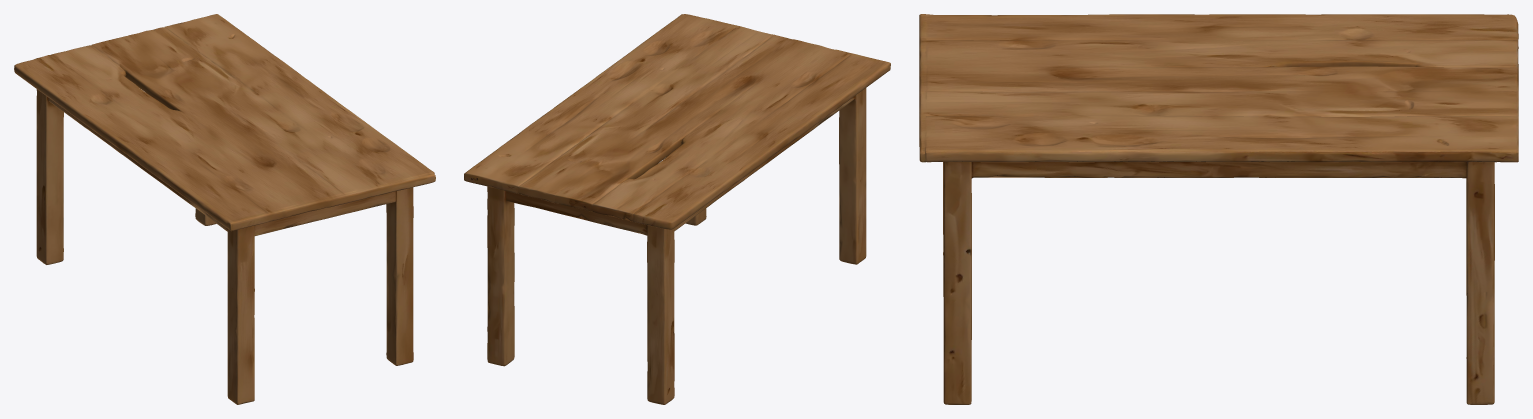
File: table-dining.glb
3 renders of one model, left to right at view 1: azimuth 30°, elevation 25°; view 2: azimuth 150°, elevation 25°; view 3: azimuth 270°, elevation 25°, orthographic. The views are drawn at different scales.
Parts seen in each view (by area): view 1: tripo_node_28b52405-52f1-4c41-bc17-5321652f5451; view 2: tripo_node_28b52405-52f1-4c41-bc17-5321652f5451; view 3: tripo_node_28b52405-52f1-4c41-bc17-5321652f5451.
Boxes of the visible parts, left/top/right/bottom form: tripo_node_28b52405-52f1-4c41-bc17-5321652f5451: left=14, top=14, right=435, bottom=404; tripo_node_28b52405-52f1-4c41-bc17-5321652f5451: left=464, top=14, right=890, bottom=404; tripo_node_28b52405-52f1-4c41-bc17-5321652f5451: left=919, top=14, right=1518, bottom=404.
Bounding box in the file's own units: 0.8426 × 0.75 × 1.54.
1 material, 1 textured.
